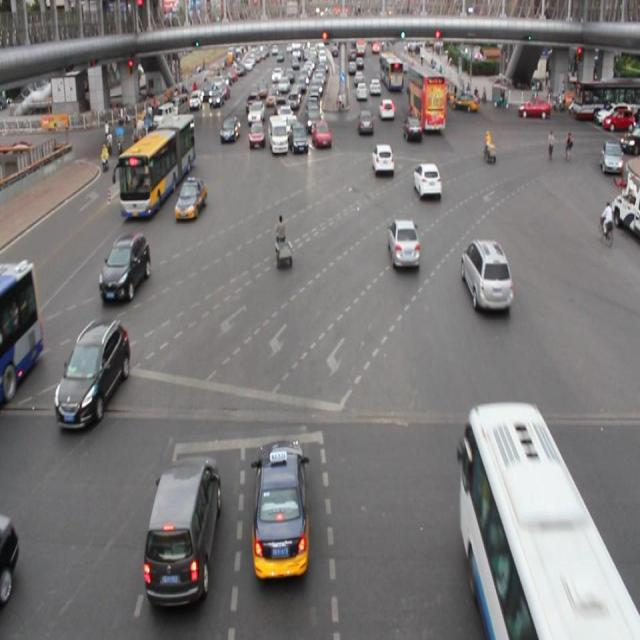car: (249, 440, 312, 584), (57, 318, 129, 430), (461, 240, 513, 315), (101, 232, 150, 302), (387, 216, 421, 272), (1, 509, 20, 606), (174, 176, 205, 222), (412, 160, 441, 198), (288, 118, 309, 156), (371, 143, 393, 176), (309, 118, 331, 150), (219, 114, 241, 146), (248, 117, 268, 152), (401, 118, 421, 144), (357, 109, 372, 135)
truck: (144, 456, 221, 604), (268, 112, 289, 156)
van: (461, 406, 639, 640), (120, 114, 195, 217), (1, 257, 42, 403), (409, 67, 444, 129)
